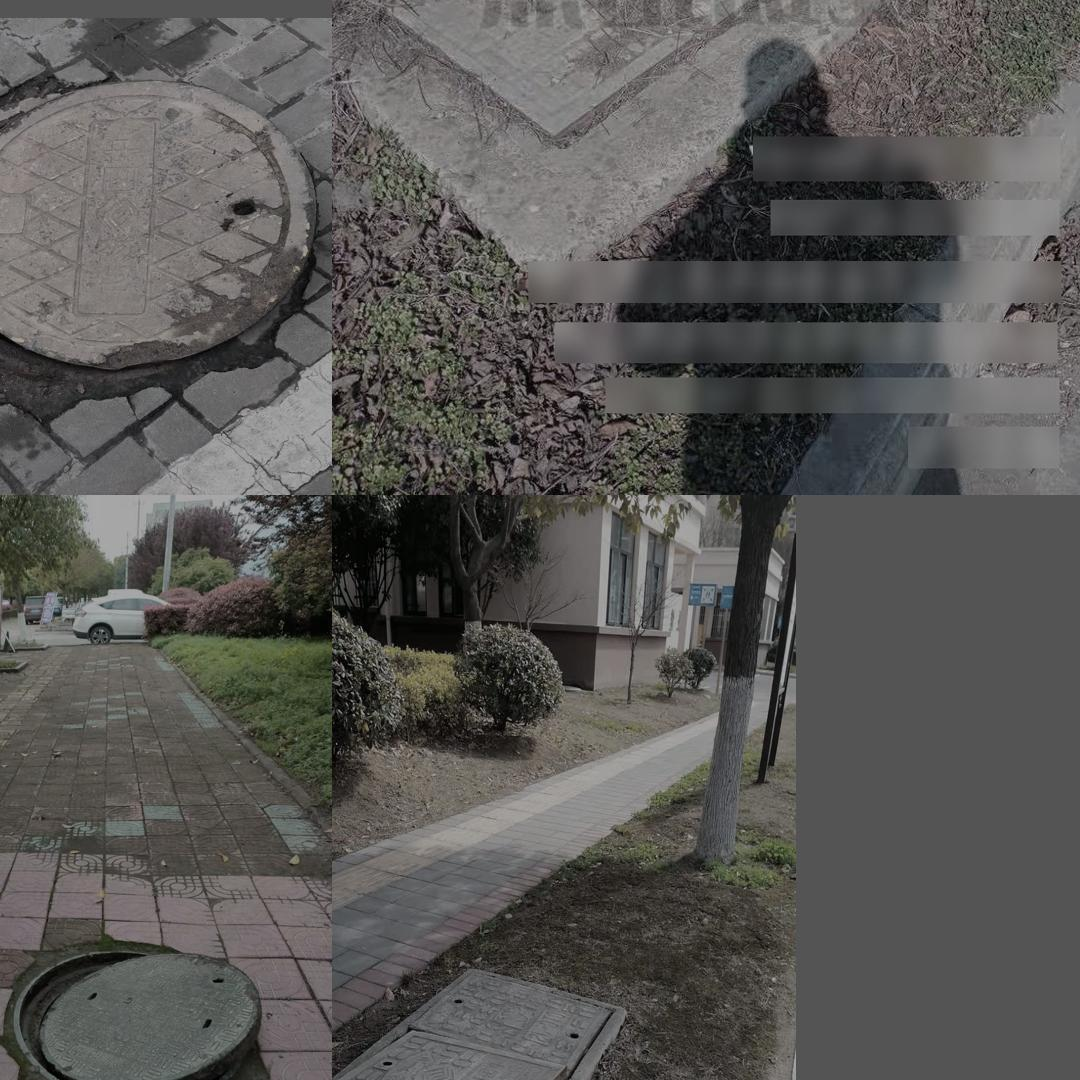uncovered: (0, 76, 314, 382), (354, 0, 899, 80), (332, 965, 628, 1080), (12, 949, 264, 1080)
